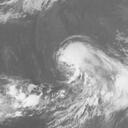cyclone: (60, 41, 90, 71)
